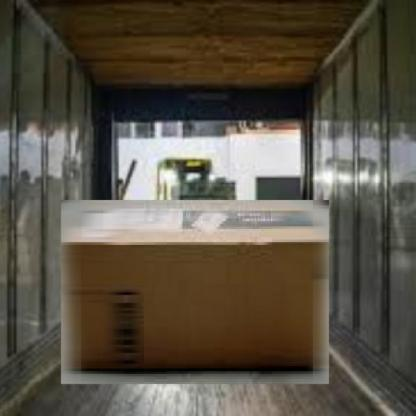-: (57, 198, 334, 388)
